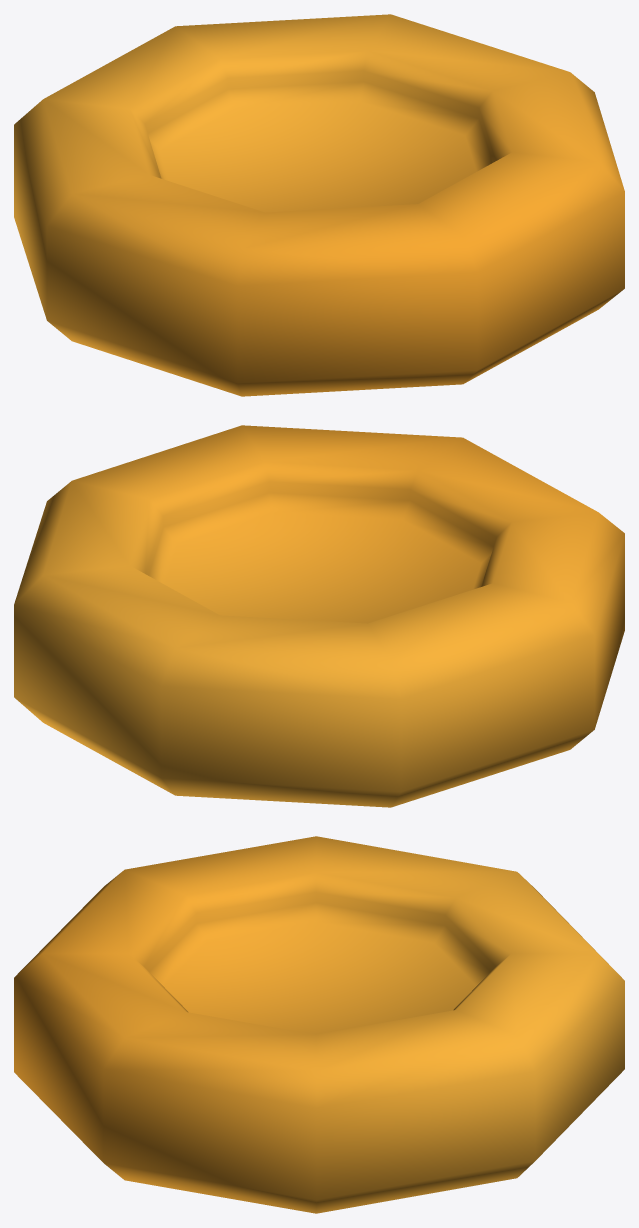
The model's file is coin.fbx.
3 views of the same model, one above another, from view 1: azimuth 30°, elevation 25°; view 2: azimuth 150°, elevation 25°; view 3: azimuth 270°, elevation 25° (orthographic). The views are drawn at different scales.
Visible parts, largest first — view 1: coin; view 2: coin; view 3: coin.
Boxes of the visible parts, <box> form: coin: <box>14,14,624,396</box>; coin: <box>14,425,624,807</box>; coin: <box>14,836,624,1213</box>.
Bounding box in the file's own units: 0.299 × 0.077 × 0.299.
1 material, 1 textured.
